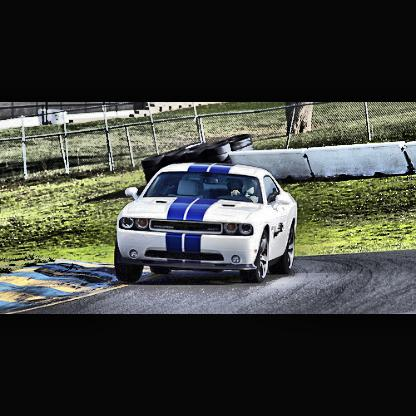Dodge Challenger SRT8 2011: (116, 165, 298, 281)
